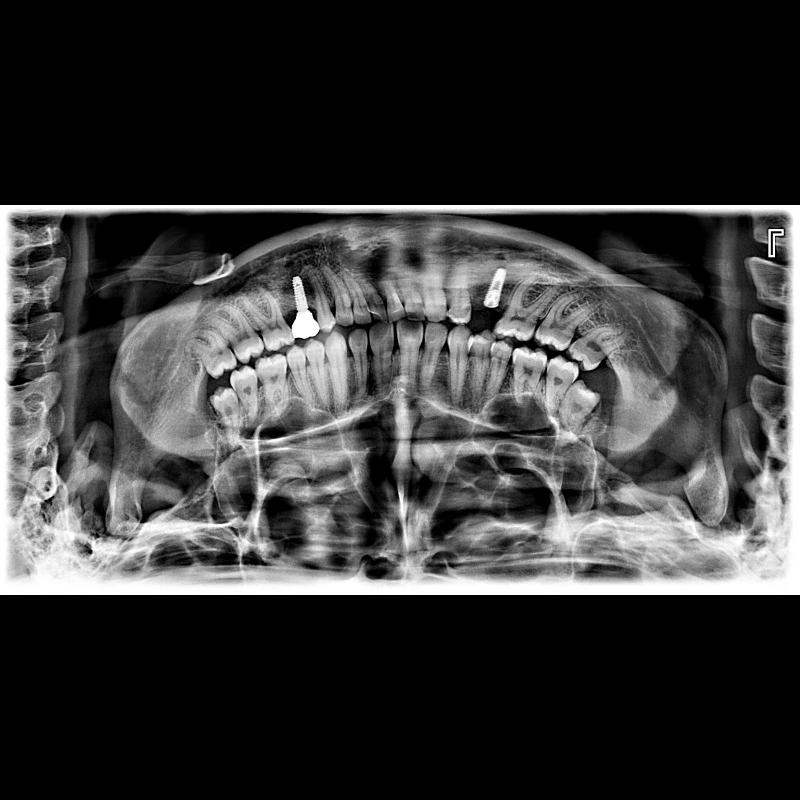osstem: (480, 264, 511, 306), (288, 272, 310, 314)
